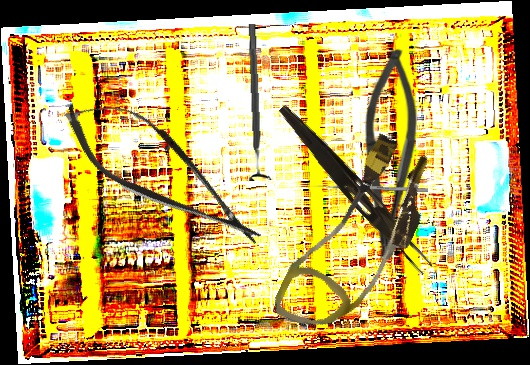Cannula: (269, 122, 447, 353)
Dressing Forceps: (269, 101, 440, 277)
Fixation Ring: (239, 23, 274, 182)
Micro Scissor: (49, 77, 279, 269), (365, 48, 418, 261)
Pusher: (308, 183, 429, 193)
